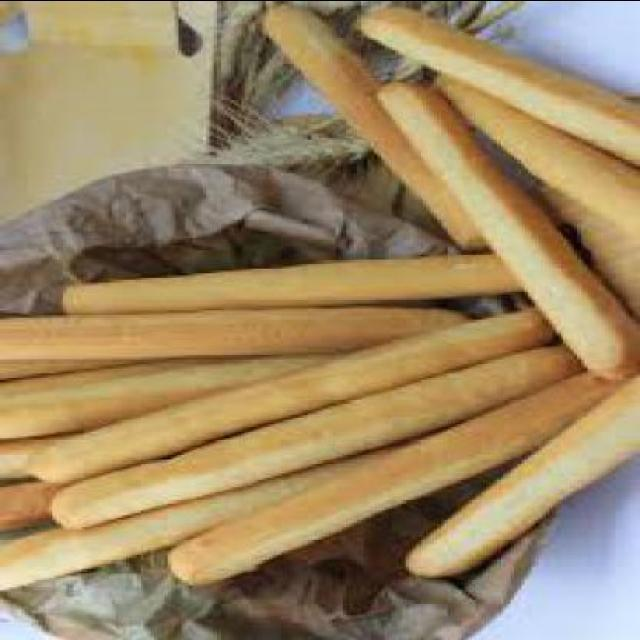Grissini: (3, 7, 629, 601)
